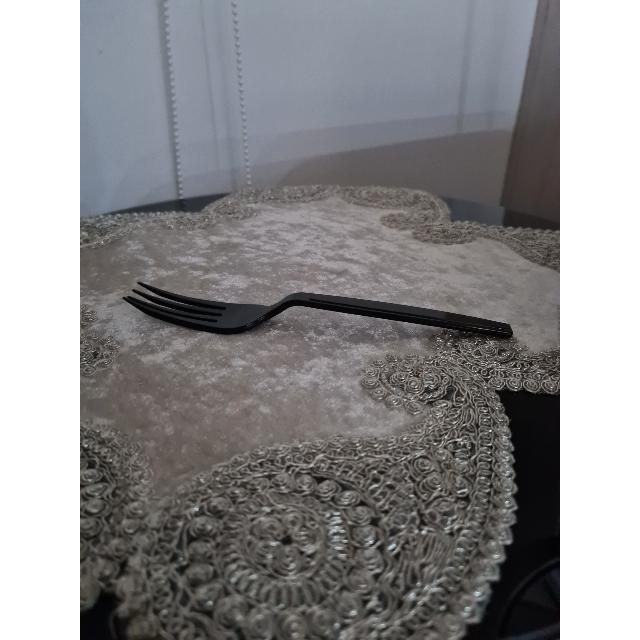Plastico descartable: (124, 281, 511, 337)
